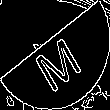M_NW: (26, 21, 84, 89)
